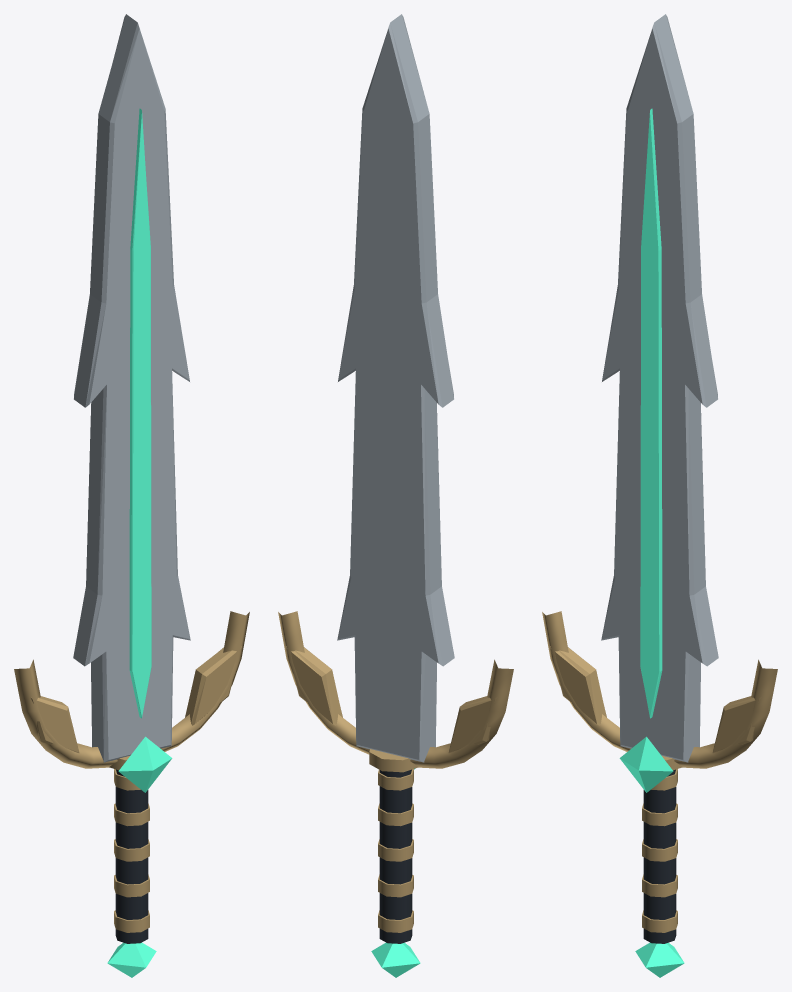
File: universal-low.glb
The picture shows the model from 3 angles, left to right: view 1: azimuth 30°, elevation 25°; view 2: azimuth 150°, elevation 25°; view 3: azimuth 330°, elevation 25°; orthographic projection.
Visible parts, largest first — view 1: Grovekeeper Blade; view 2: Grovekeeper Blade; view 3: Grovekeeper Blade.
Boxes of the visible parts, x1,y1,x2,y2 form: Grovekeeper Blade: (14,14,249,977); Grovekeeper Blade: (278,14,513,977); Grovekeeper Blade: (542,14,777,977).
Size of the model in its own units: 0.3052 by 1.19 by 0.0795.
